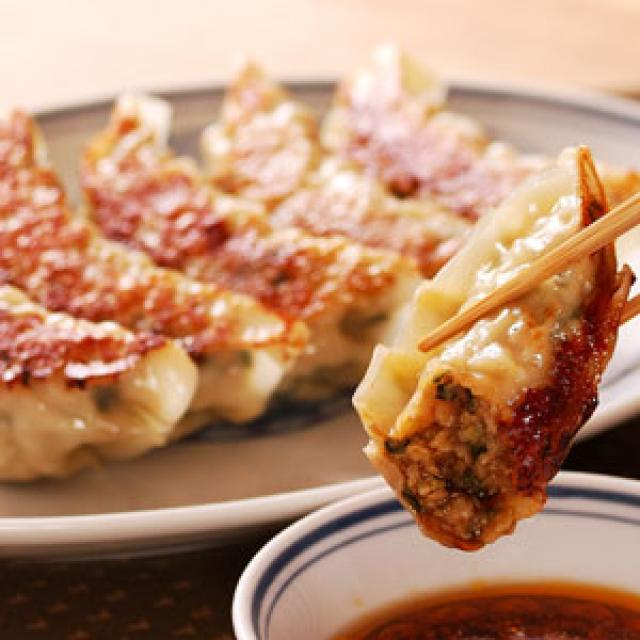带馅早点: (0, 64, 640, 570)
